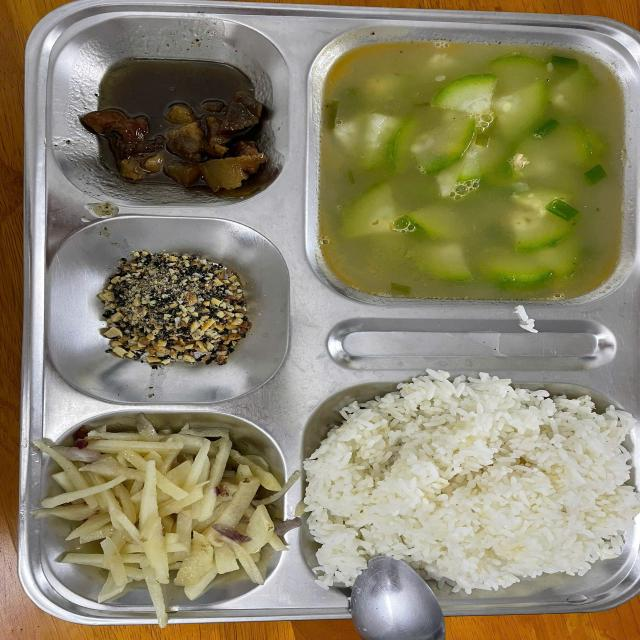canhbau: (320, 45, 626, 296)
salad: (320, 383, 636, 588)
suon: (44, 418, 274, 597)
tomramthit: (85, 52, 268, 193)
